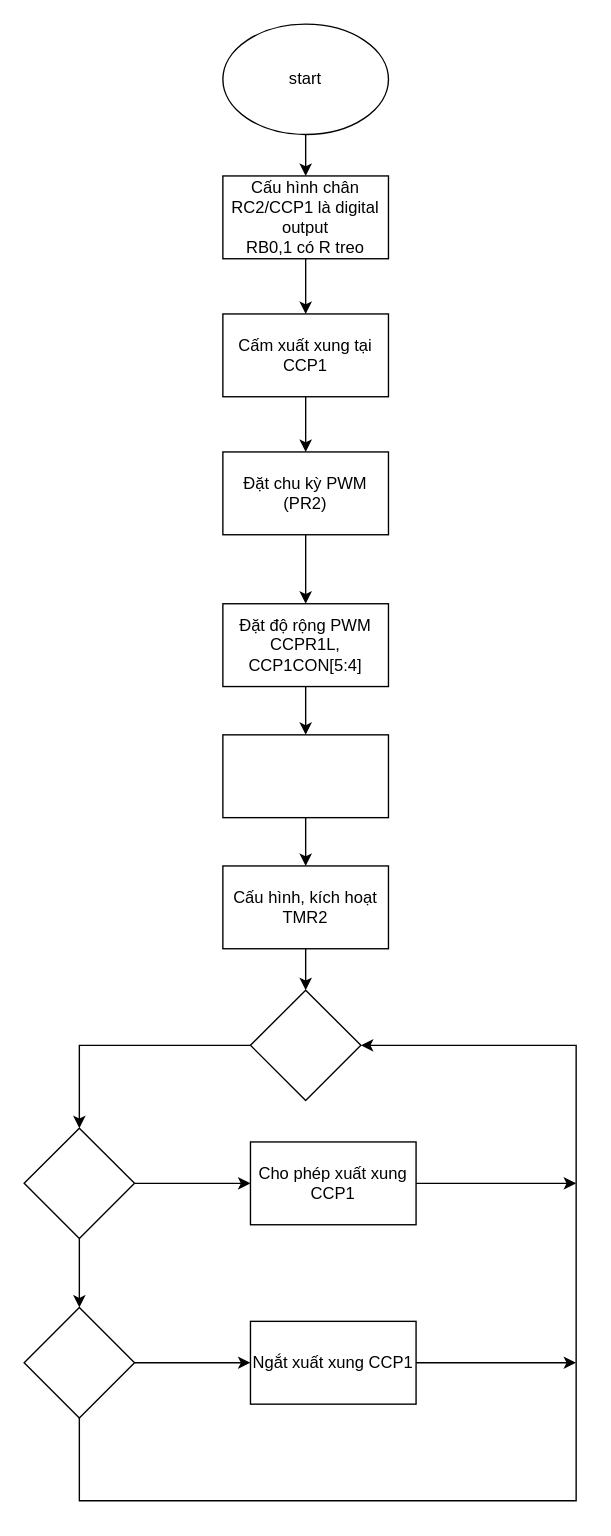
Image size: 611x1536. Some labels were removed from this diagram. Here are the shapes that lost their labels. From the top down, the centre of each, then its label:
(x=304, y=775): Cấu hình modul CCP ở PWM mode
(x=305, y=1045): while(1)
(x=79, y=1183): RB0 đc nhấn
(x=79, y=1362): RB1 đc nhấn
